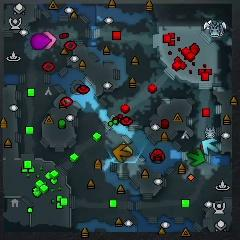p3: (30, 32, 52, 50)
x1: (45, 30, 57, 51)
x2: (121, 142, 133, 161)
x3: (202, 138, 219, 155)
x4: (187, 148, 206, 167)
x5: (112, 143, 132, 162)
